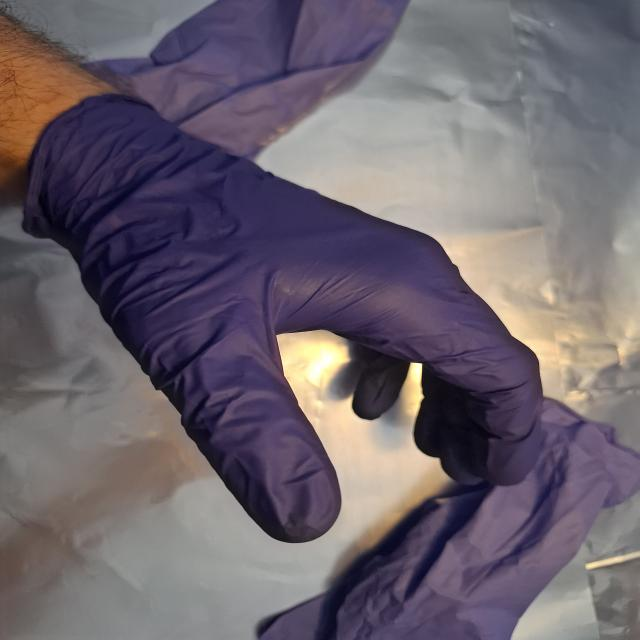glove_on: (23, 92, 548, 547)
